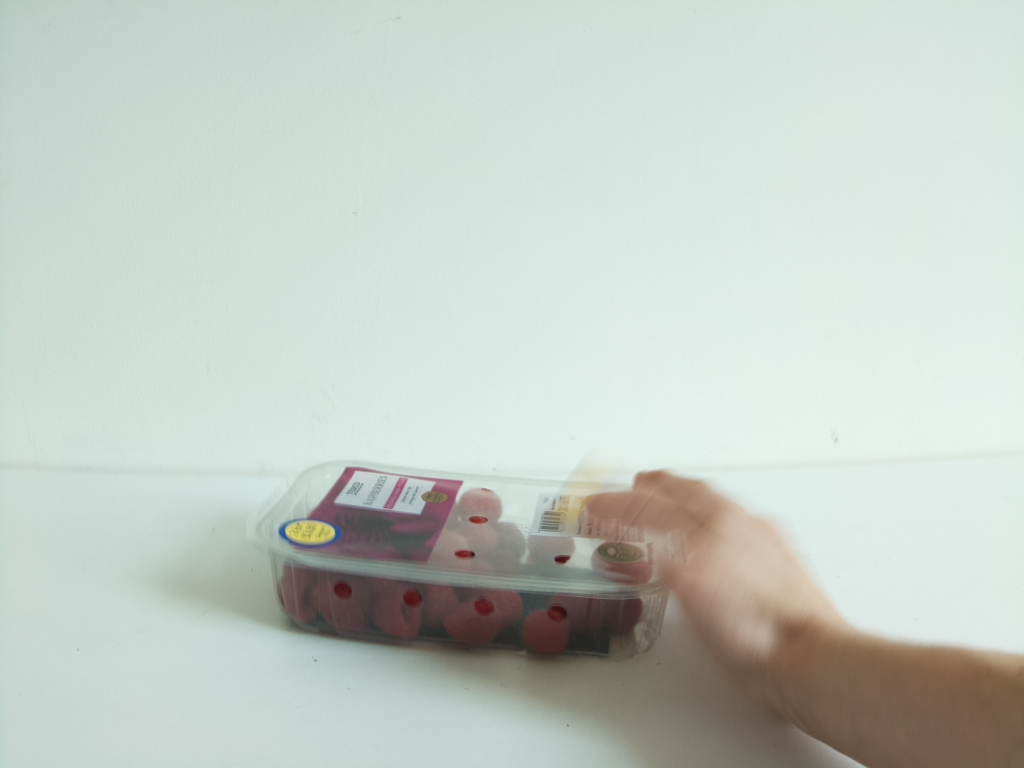soft-fruit: (259, 456, 687, 663)
